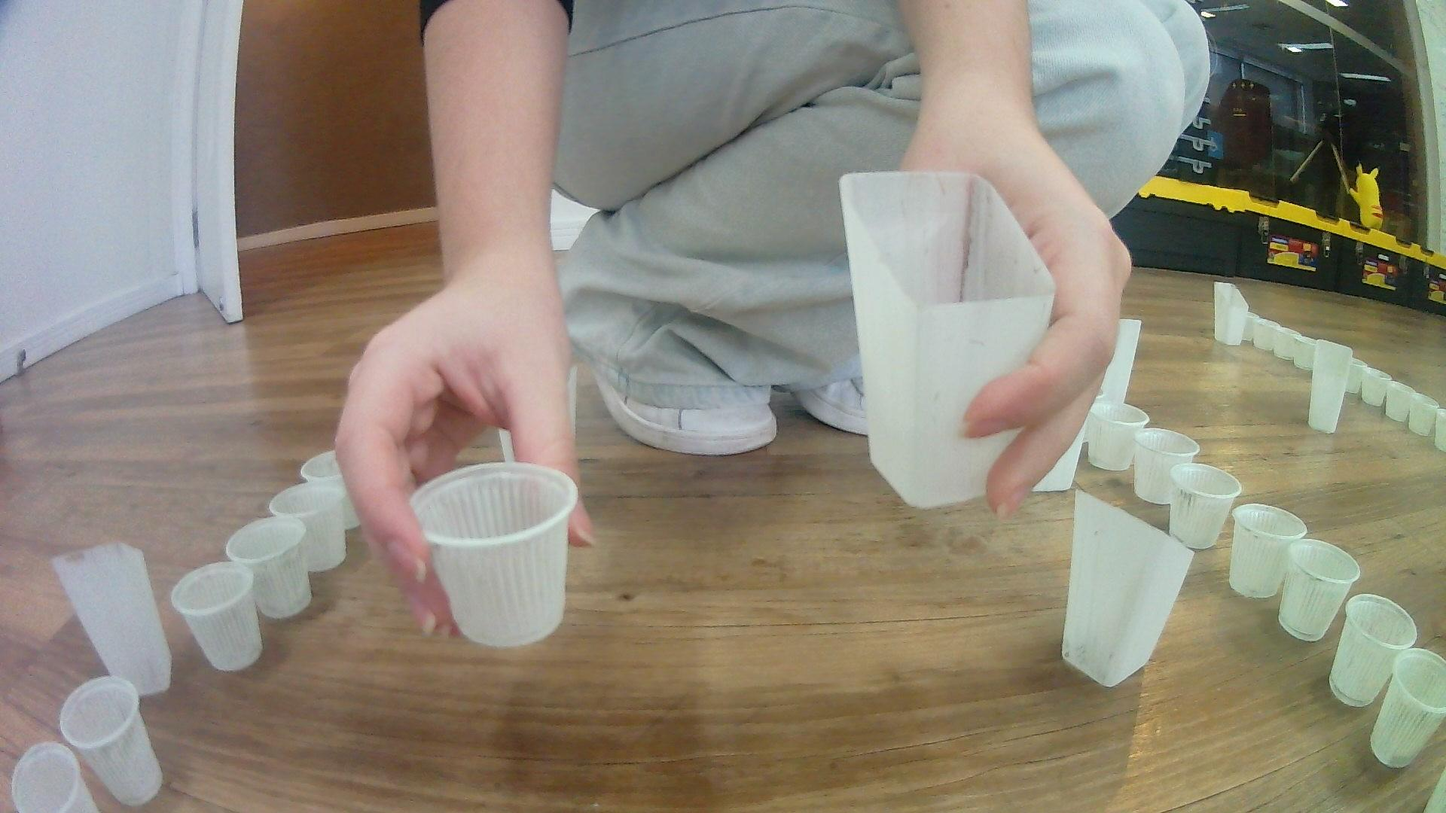erva_daninha: (836, 169, 1057, 512), (1060, 488, 1197, 689), (52, 540, 175, 698), (1029, 406, 1091, 493), (1307, 339, 1353, 434), (1094, 318, 1141, 409), (1213, 281, 1249, 346)
planta: (407, 461, 580, 650), (59, 675, 163, 806), (1329, 594, 1419, 708), (171, 562, 263, 672), (1368, 647, 1446, 769), (225, 516, 314, 620), (1279, 537, 1362, 644), (1229, 504, 1309, 599), (269, 482, 351, 574), (1167, 462, 1243, 551), (11, 741, 100, 813), (1133, 427, 1201, 506), (300, 449, 359, 531), (1086, 403, 1150, 471), (1409, 396, 1438, 437), (1361, 369, 1392, 407), (1386, 385, 1414, 423), (1252, 321, 1282, 352), (1291, 336, 1318, 370), (1271, 328, 1296, 361), (1243, 312, 1267, 346), (1347, 359, 1368, 394), (1435, 409, 1446, 452)
